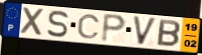B: (155, 18, 182, 49)
C: (76, 14, 102, 40)
P: (100, 12, 128, 44)
S: (46, 10, 71, 39)
V: (131, 15, 158, 47)
X: (20, 6, 46, 38)
